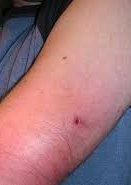Spider: (69, 114, 83, 130)
